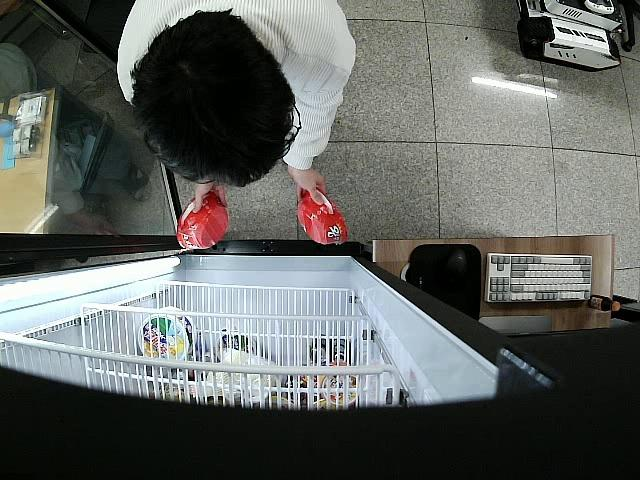00_hand: (287, 161, 329, 208), (191, 177, 227, 217)
10_wangTtukkeong: (297, 187, 348, 247), (176, 191, 227, 249)
